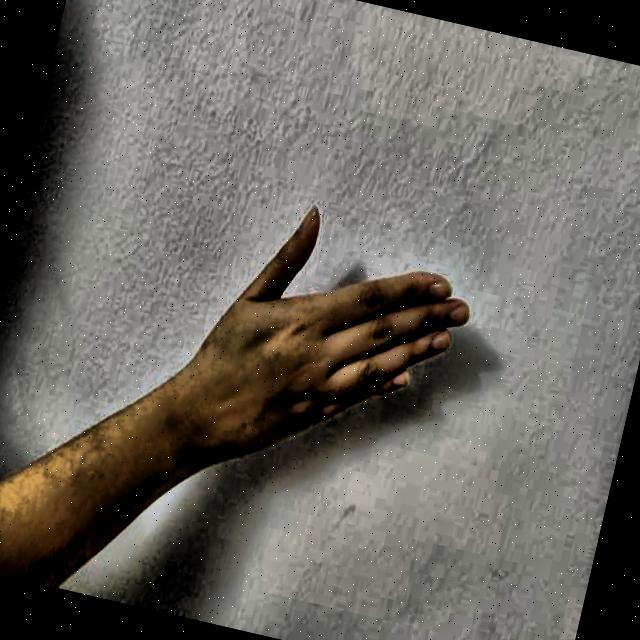Aa: (161, 188, 505, 532)
